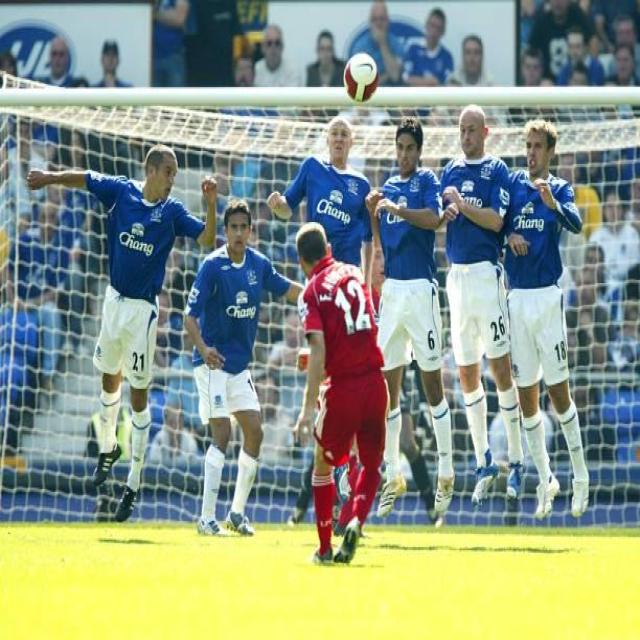ball: (339, 51, 382, 106)
player: (41, 147, 217, 521), (510, 118, 598, 534), (182, 208, 292, 536), (372, 122, 455, 537), (290, 222, 378, 578), (455, 104, 510, 514), (274, 122, 380, 228)
